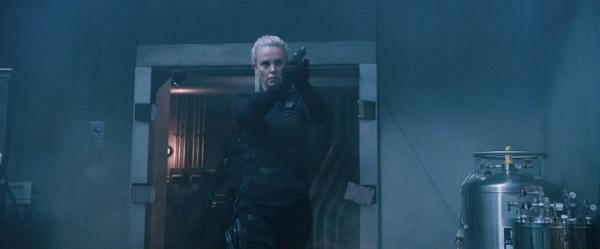Gun: (286, 46, 308, 68)
